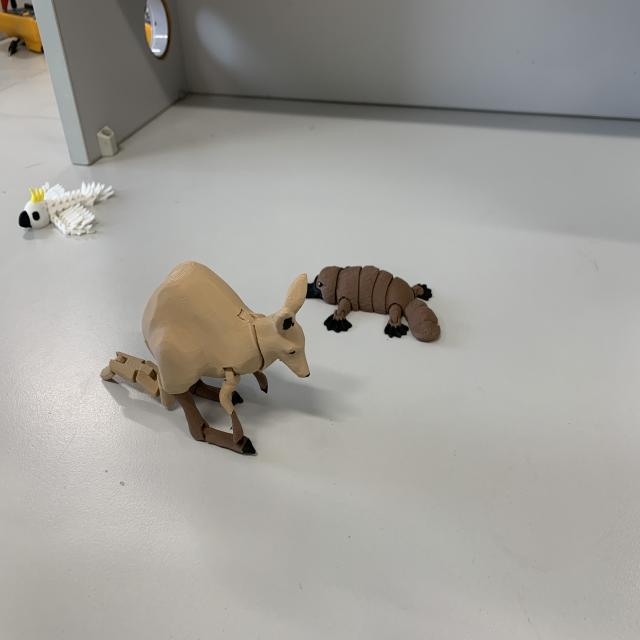cockatoo: (10, 173, 126, 247)
kangaroo: (95, 265, 306, 471)
platypus: (309, 255, 450, 352)
